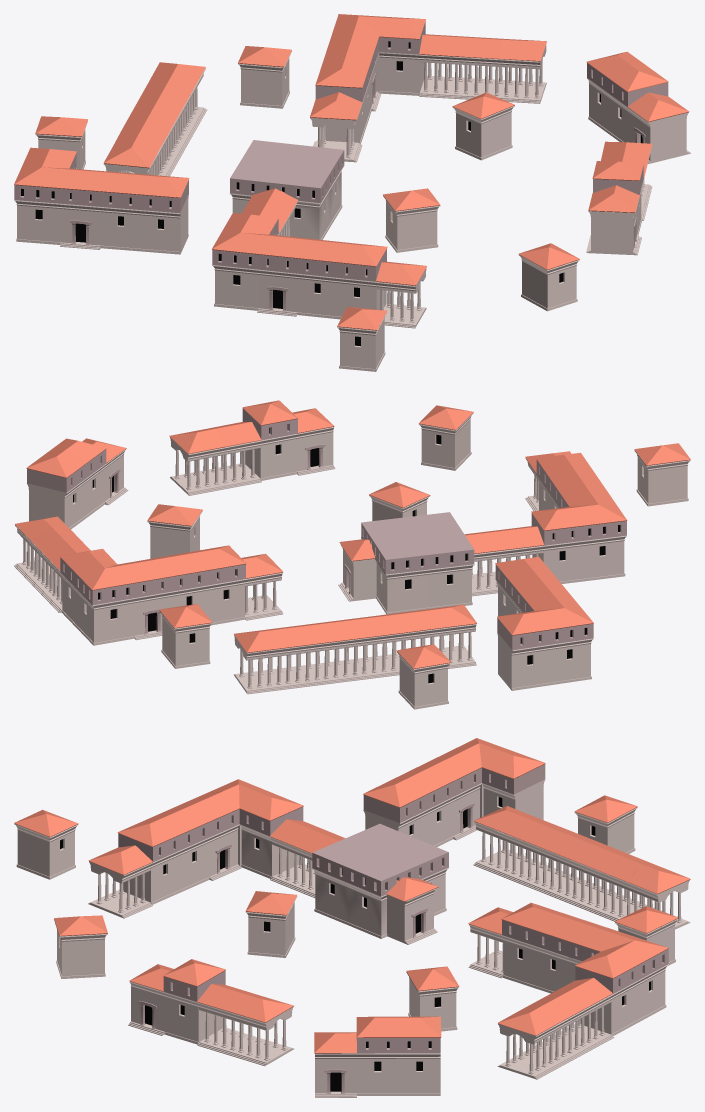
The model's file is ville_002.fbx.
3 views of the same model, one above another, from view 1: azimuth 30°, elevation 25°; view 2: azimuth 150°, elevation 25°; view 3: azimuth 270°, elevation 25° (orthographic). The views are drawn at different scales.
Parts seen in each view (by area): view 1: Cube.189, Cube.230, Cube.143, Cube.199, Cube.181, Cube.204, Cube.239, Cube.146, Cube.213, Cube.163, Cube.148, Cube.150; view 2: Cube.189, Cube.230, Cube.181, Cube.143, Cube.204, Cube.199, Cube.148, Cube.146, Cube.150, Cube.163, Cube.239, Cube.213; view 3: Cube.189, Cube.230, Cube.181, Cube.143, Cube.204, Cube.199, Cube.148, Cube.146, Cube.213, Cube.150, Cube.239, Cube.163.
Part boxes in pixels (box(x1,y1,x2,y2)): Cube.189: box(212, 140, 426, 328); Cube.230: box(310, 14, 546, 162); Cube.143: box(14, 147, 189, 254); Cube.199: box(586, 51, 690, 163); Cube.181: box(103, 62, 207, 176); Cube.204: box(586, 141, 652, 255); Cube.239: box(452, 92, 514, 160); Cube.146: box(518, 243, 579, 311); Cube.213: box(383, 188, 440, 252); Cube.163: box(238, 46, 291, 108); Cube.148: box(337, 307, 387, 371); Cube.150: box(35, 116, 87, 169); Cube.189: box(338, 451, 627, 614); Cube.230: box(14, 516, 283, 645); Cube.181: box(233, 604, 476, 694); Cube.143: box(495, 556, 593, 690); Cube.204: box(169, 400, 335, 495); Cube.199: box(26, 438, 128, 529); Cube.148: box(634, 443, 690, 506); Cube.146: box(418, 405, 473, 470); Cube.150: box(396, 644, 450, 709); Cube.163: box(159, 604, 212, 668); Cube.239: box(147, 504, 202, 558); Cube.213: box(369, 482, 430, 520); Cube.189: box(88, 779, 448, 944); Cube.230: box(468, 902, 668, 1079); Cube.181: box(473, 806, 690, 929); Cube.143: box(363, 738, 545, 846); Cube.204: box(128, 959, 294, 1066); Cube.199: box(314, 1016, 441, 1097); Cube.148: box(14, 809, 78, 879); Cube.146: box(54, 915, 107, 978); Cube.213: box(245, 891, 297, 957); Cube.150: box(574, 795, 637, 853); Cube.239: box(406, 966, 459, 1031); Cube.163: box(614, 906, 678, 966).
Size of the model in its own units: 1233 by 132 by 1174.
